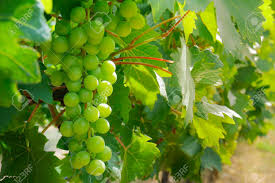grapes: (49, 9, 116, 175)
